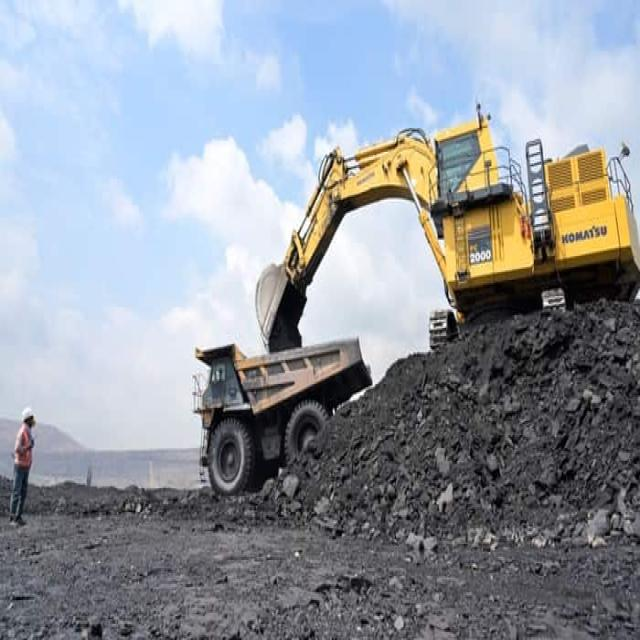dump_truck: (163, 338, 378, 498)
excavator: (238, 94, 640, 329)
